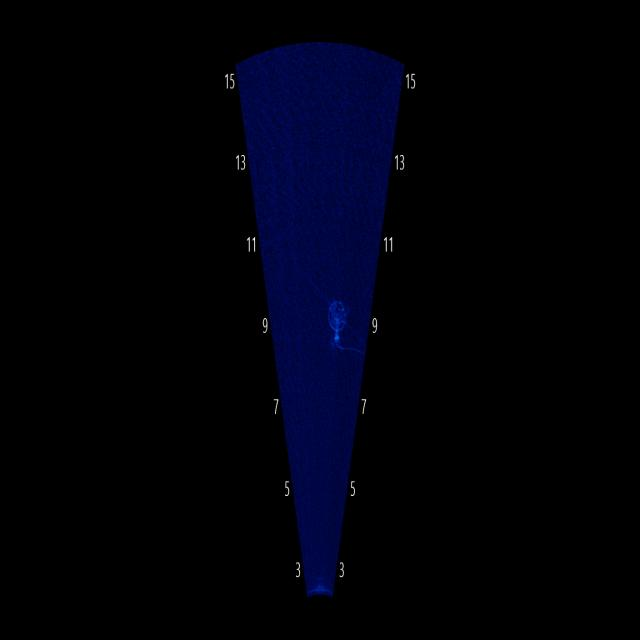circle: (315, 272, 357, 357)
